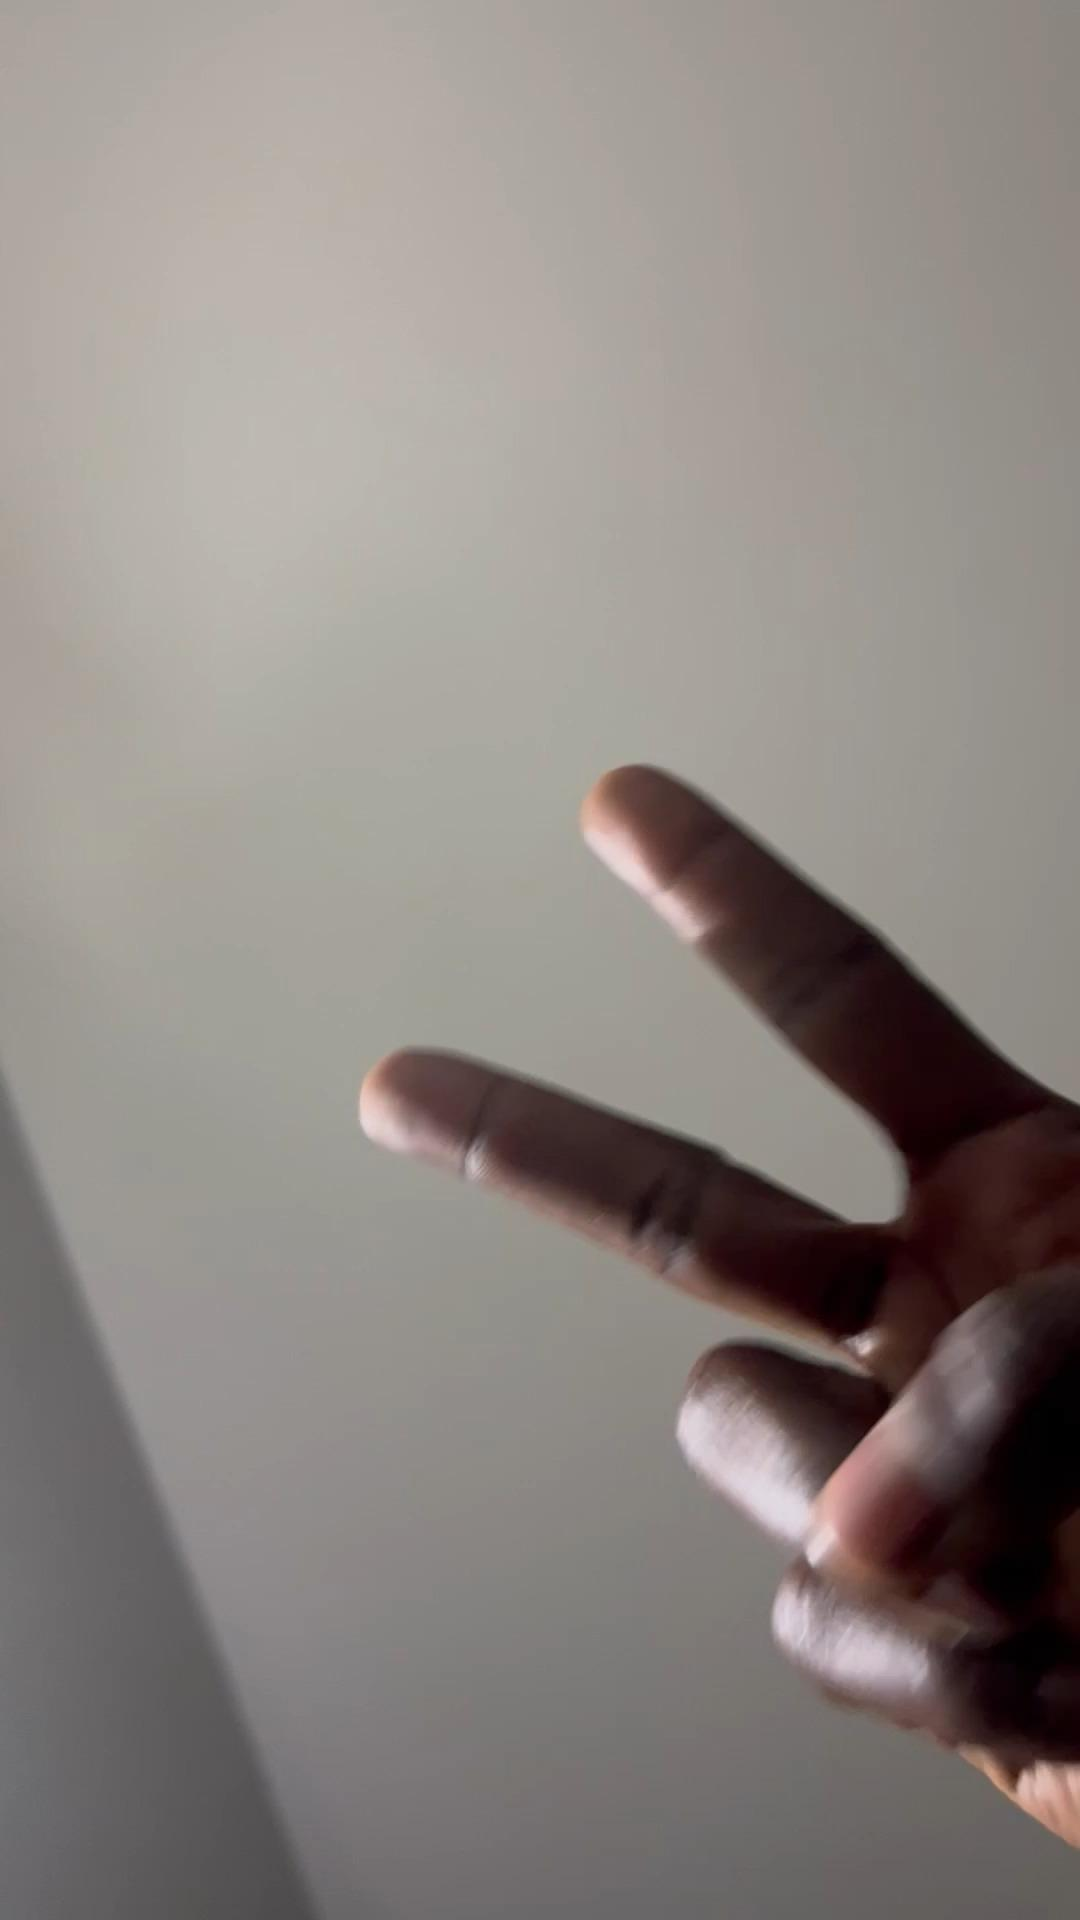Scissors: (347, 763, 1080, 1864)
